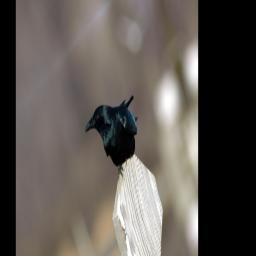Crow: (83, 71, 146, 200)
